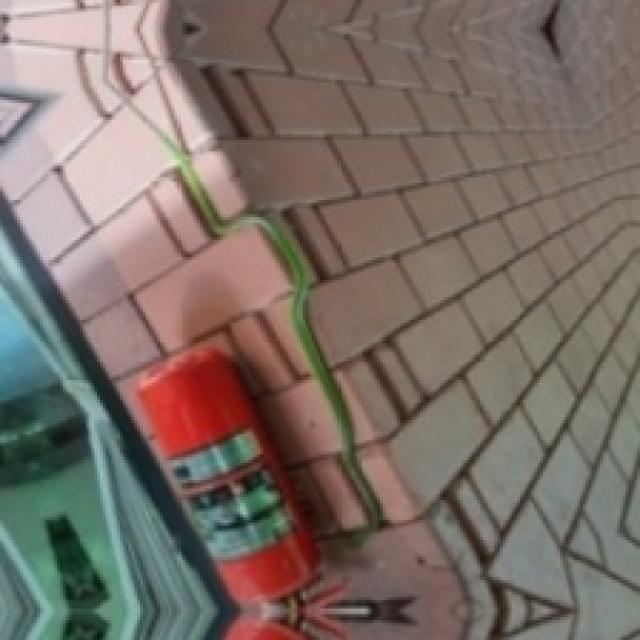red-tailed green ratsnake: (162, 134, 386, 539)
